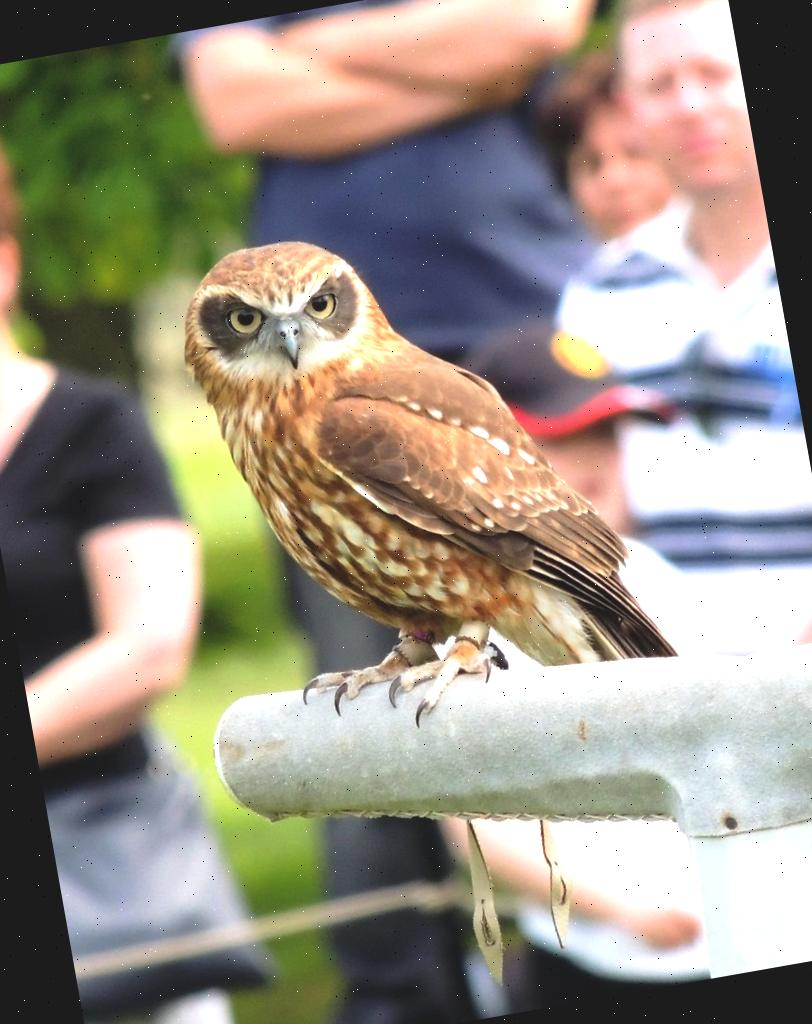Owl: (155, 180, 683, 759)
